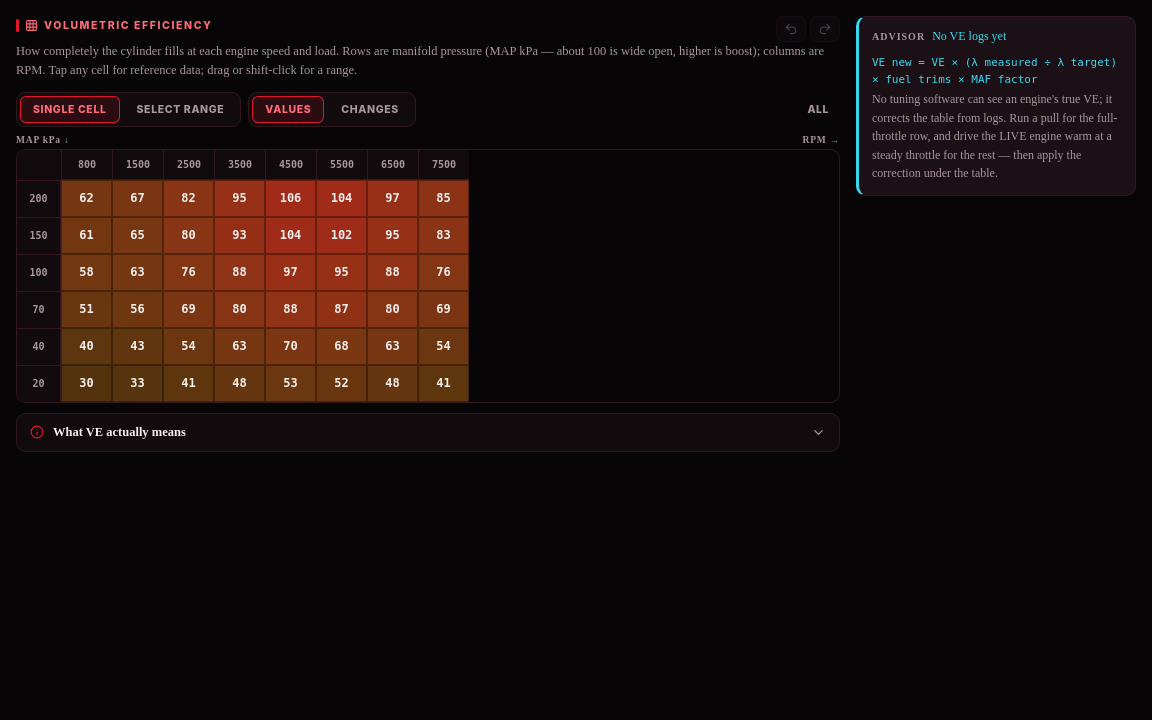
AirflowScreen › mounts the shared TuningGrid and SelectionDock with their test ids intact
Expected: the element with test id "tuning-grid" is shown, [16,134,840,402]
Step 1. Click the 2nd button "41" → (444, 383), box [418,364,469,402]
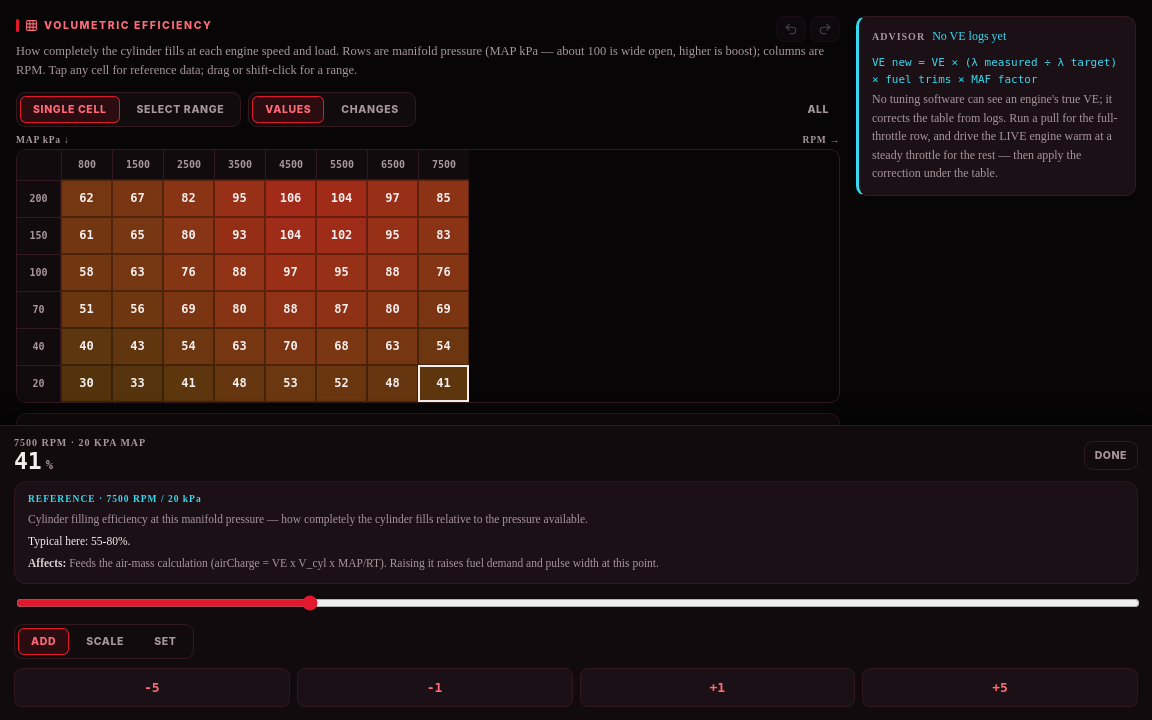
Expected: the element with test id "selection-dock" is shown, [0,425,1151,719]
